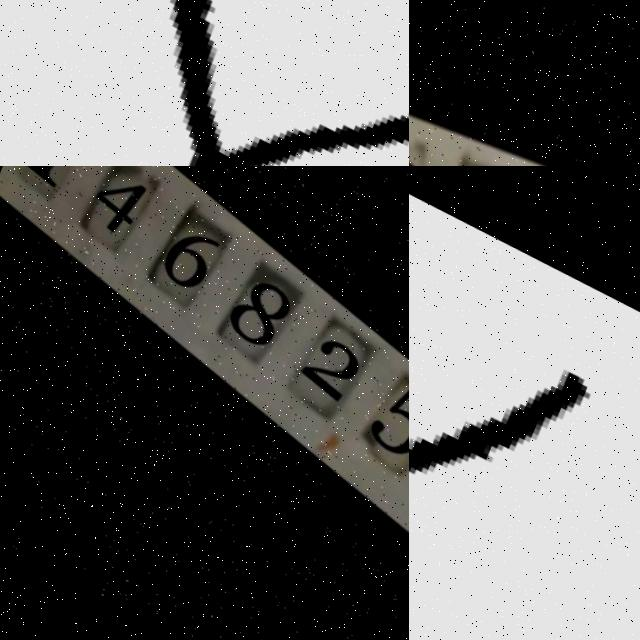1: (0, 166, 104, 207)
2: (272, 293, 384, 421)
4: (63, 166, 167, 256), (417, 134, 529, 166)
5: (341, 344, 409, 474)
6: (133, 189, 239, 310)
8: (197, 239, 313, 372)
K: (409, 173, 640, 640)
Y: (0, 0, 409, 166)
